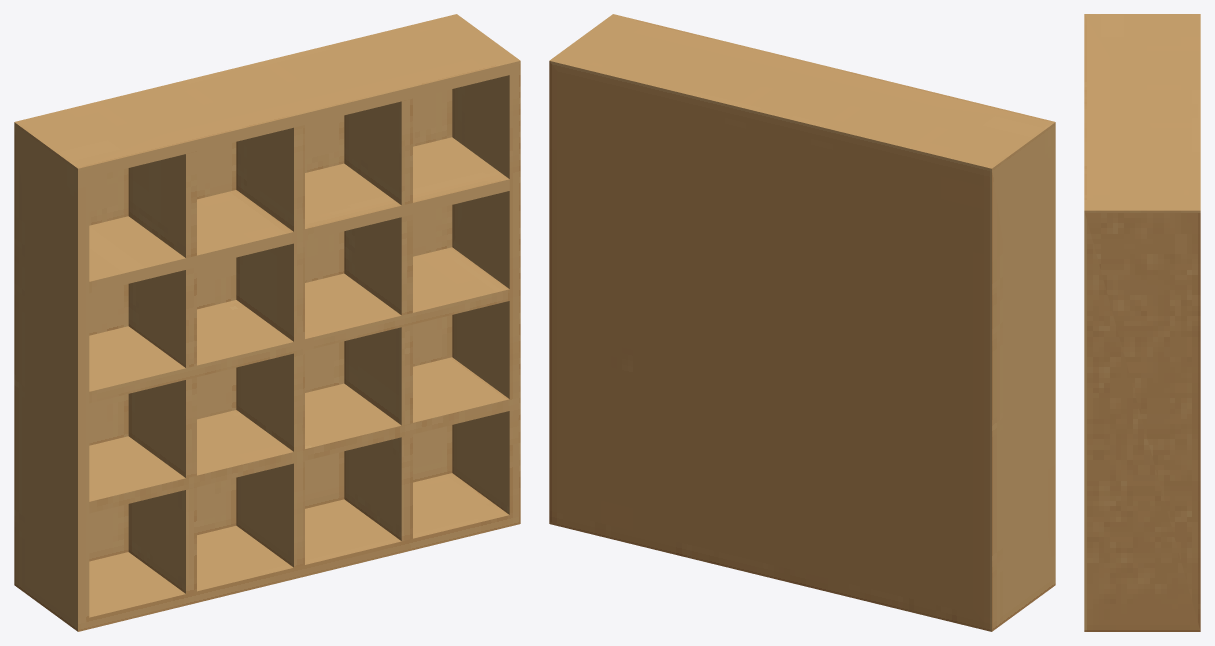
The model's file is cubby_shelf.glb.
3 renders of one model, left to right at view 1: azimuth 30°, elevation 25°; view 2: azimuth 150°, elevation 25°; view 3: azimuth 270°, elevation 25°, orthographic. The views are drawn at different scales.
Visible parts, largest first — view 1: cubby_shelf_src; view 2: cubby_shelf_src; view 3: cubby_shelf_src.
Part boxes in pixels (x1,y1,x2,y2): cubby_shelf_src: (14,14,520,631); cubby_shelf_src: (549,14,1055,631); cubby_shelf_src: (1084,14,1200,631).
Size of the model in its own units: 1.56 by 1.56 by 0.3907.
1 material, 1 textured.
